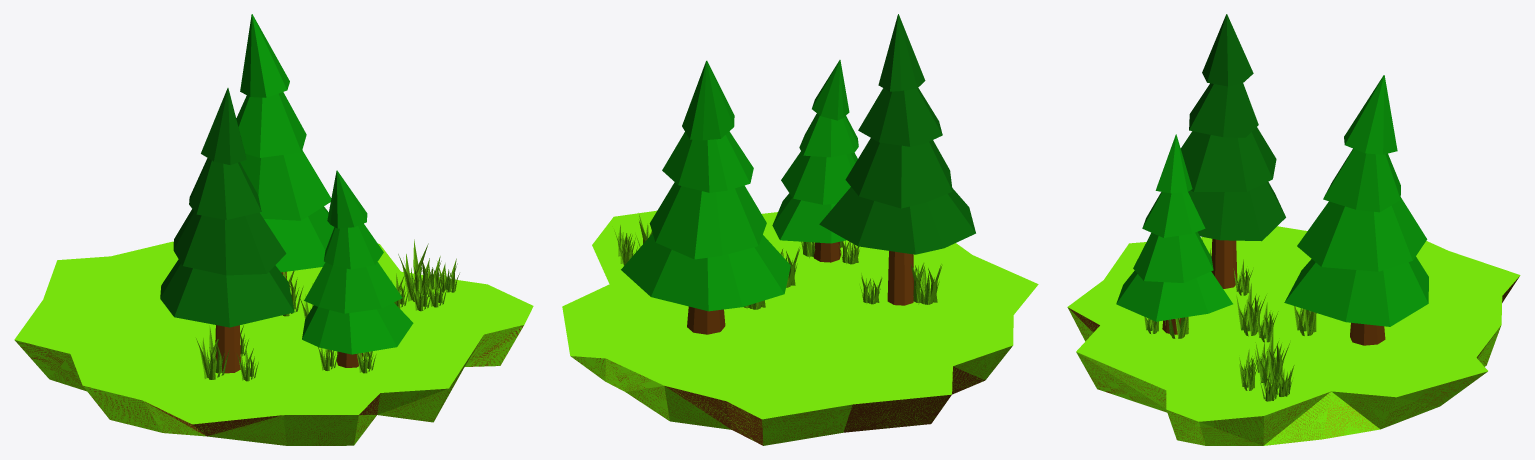
Rendered from ELKI.fbx.
3 views of the same model, side by side, from view 1: azimuth 30°, elevation 25°; view 2: azimuth 150°, elevation 25°; view 3: azimuth 270°, elevation 25° (orthographic). The views are drawn at different scales.
Parts seen in each view (by area): view 1: Group3, Line002_1_1, Line002_2, Line002_1, Group2, Cylinder00_1_1; view 2: Group3, Line002_2, Line002_1_1, Line002_1, Group2, Cylinder00_1_1, Cylinder00_2, Cylinder00_1; view 3: Group3, Line002_2, Line002_1_1, Line002_1, Group2, Cylinder00_1_1, Cylinder00_2.
Boxes of the visible parts, bbox=[...] form: Group3: bbox=[14, 241, 533, 445]; Line002_1_1: bbox=[160, 158, 294, 327]; Line002_2: bbox=[236, 14, 334, 272]; Line002_1: bbox=[302, 170, 413, 354]; Group2: bbox=[201, 88, 246, 165]; Cylinder00_1_1: bbox=[215, 325, 240, 373]; Group3: bbox=[562, 210, 1038, 445]; Line002_2: bbox=[621, 60, 790, 311]; Line002_1_1: bbox=[819, 88, 975, 254]; Line002_1: bbox=[772, 60, 858, 243]; Group2: bbox=[878, 14, 925, 91]; Cylinder00_1_1: bbox=[887, 251, 913, 305]; Cylinder00_2: bbox=[687, 306, 725, 334]; Cylinder00_1: bbox=[814, 241, 840, 262]; Group3: bbox=[1067, 226, 1520, 445]; Line002_2: bbox=[1284, 75, 1428, 326]; Line002_1_1: bbox=[1180, 83, 1285, 241]; Line002_1: bbox=[1116, 134, 1232, 321]; Group2: bbox=[1202, 14, 1253, 86]; Cylinder00_1_1: bbox=[1211, 239, 1237, 288]; Cylinder00_2: bbox=[1350, 322, 1385, 345].
Size of the model in its own units: 645 by 497 by 616.
